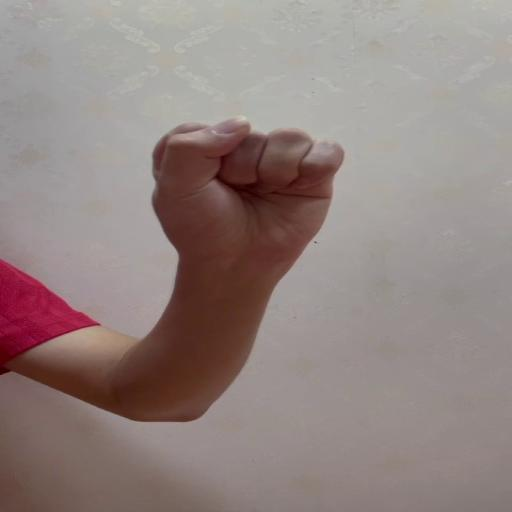fist: (149, 114, 346, 267)
